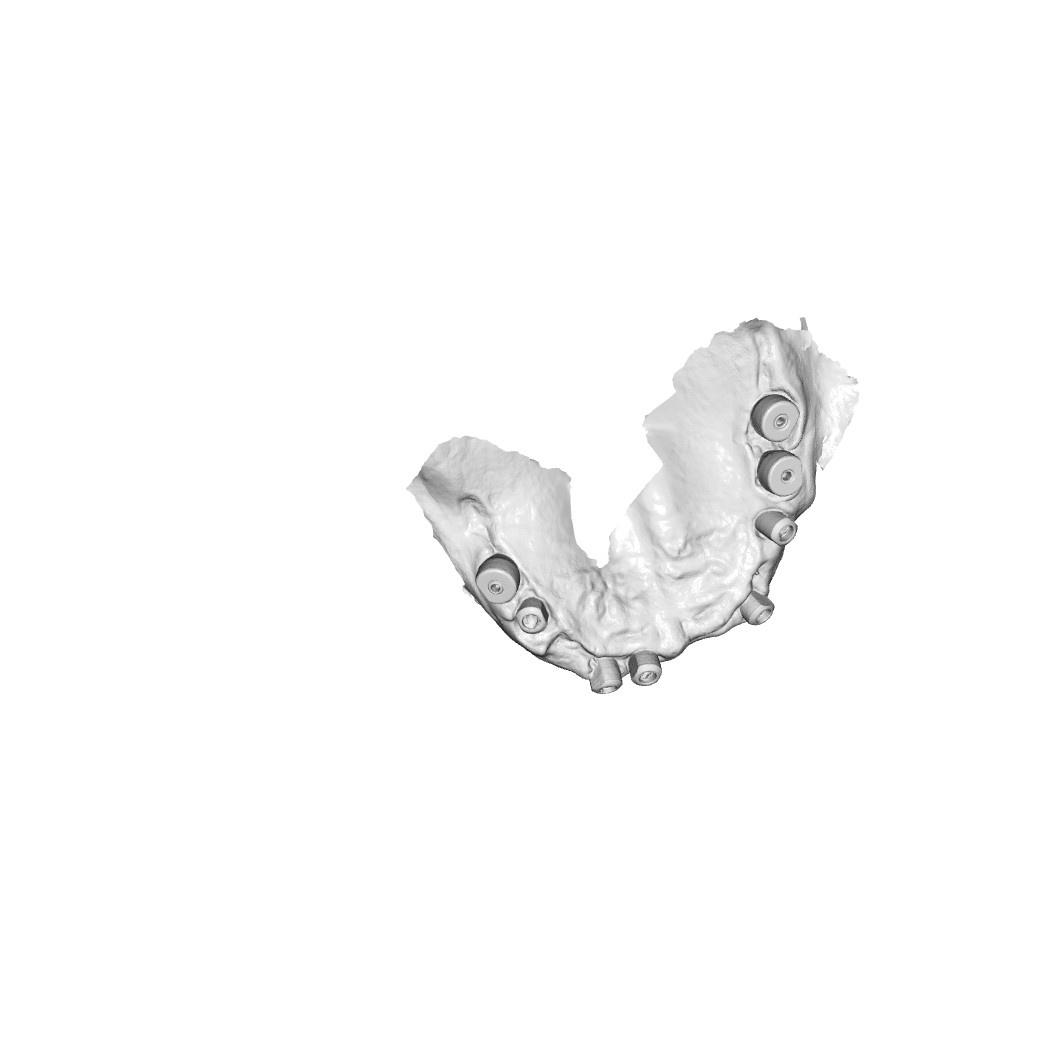implant: (749, 393, 801, 443), (474, 553, 521, 604), (756, 449, 804, 498), (753, 508, 798, 547), (589, 656, 624, 695), (739, 590, 776, 626), (628, 650, 663, 687), (515, 597, 550, 634)
